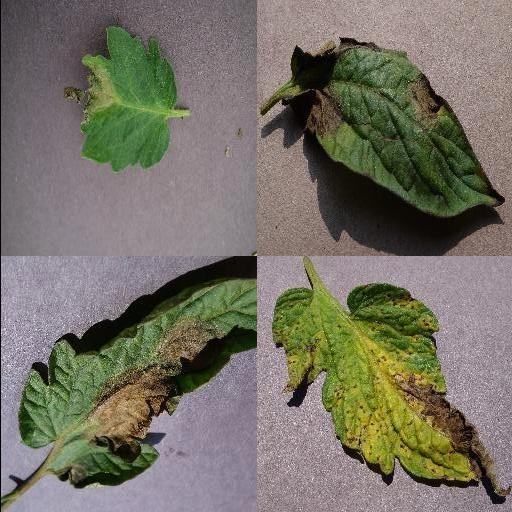Late Blight: (18, 273, 256, 489), (283, 39, 505, 217), (61, 26, 177, 172)
Septoria: (273, 282, 507, 482)
